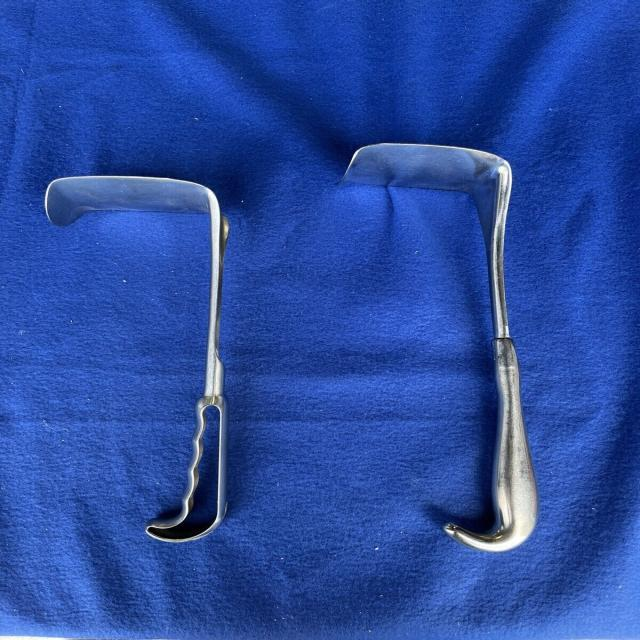Kelly Retractor: (28, 168, 252, 541)
